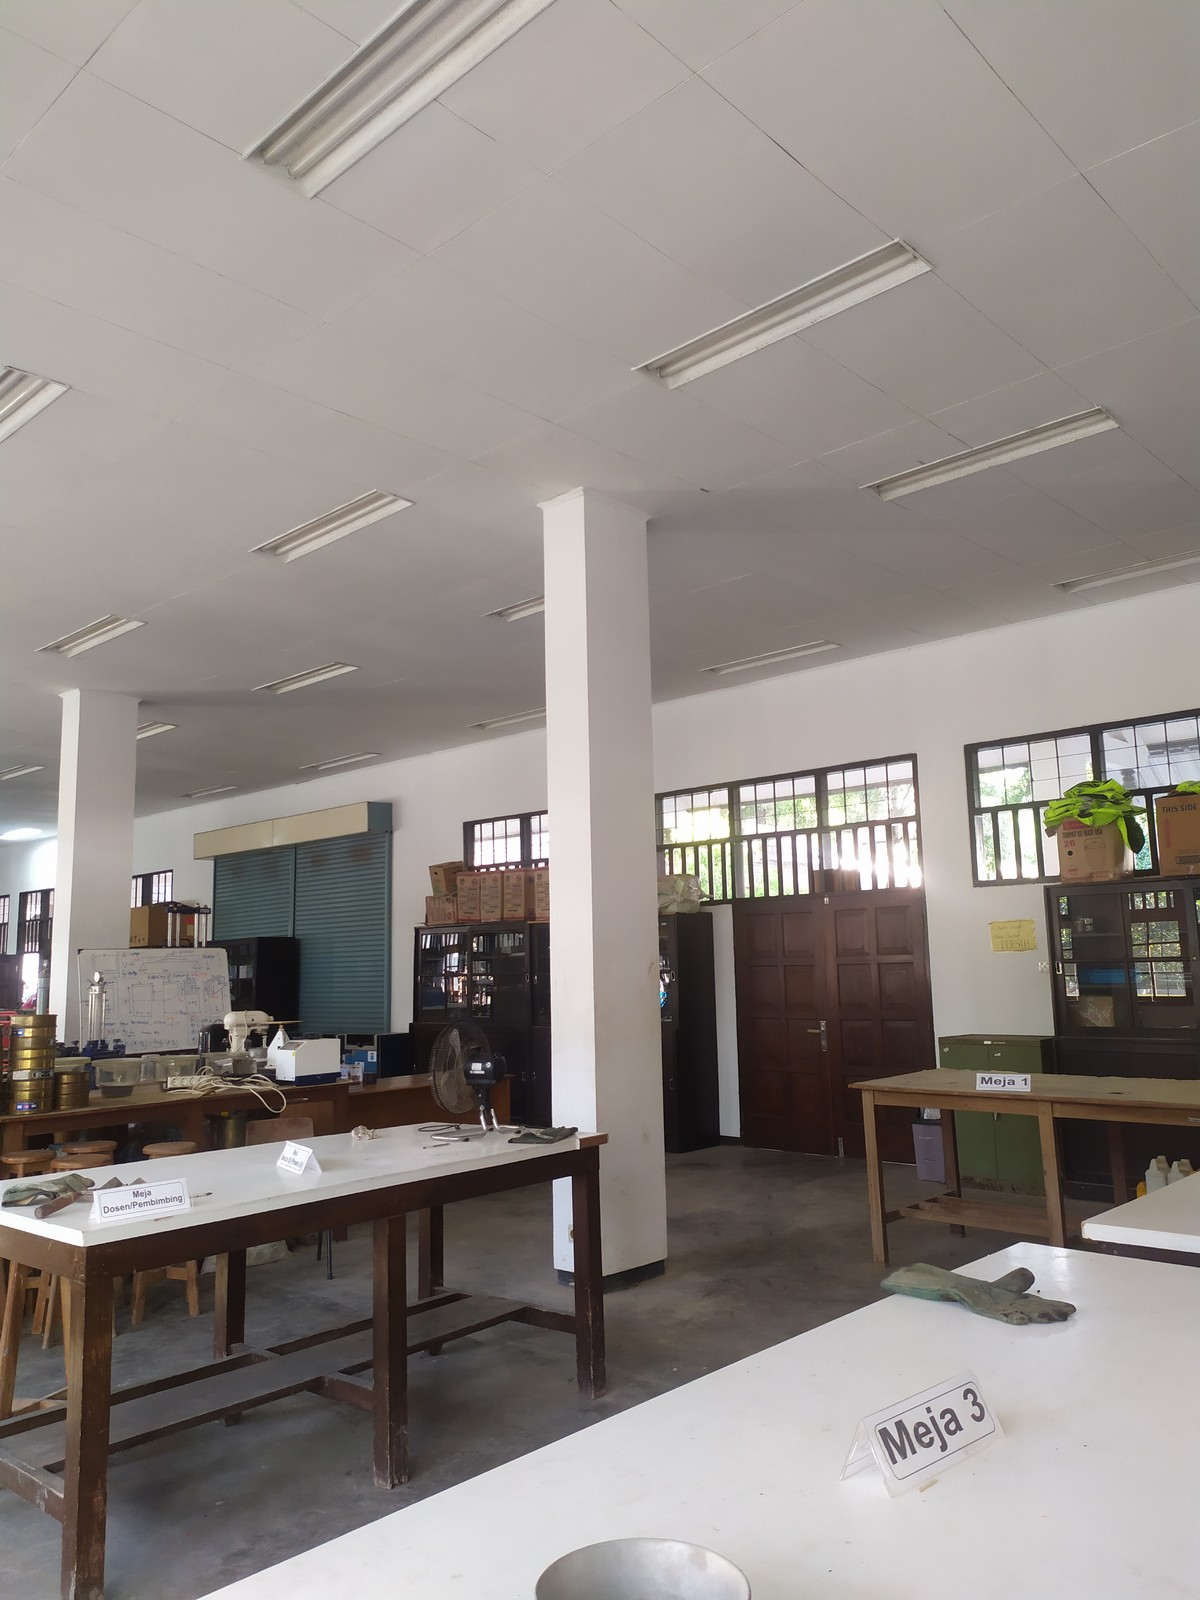concrete column: (534, 484, 679, 1291), (44, 682, 142, 1013)
